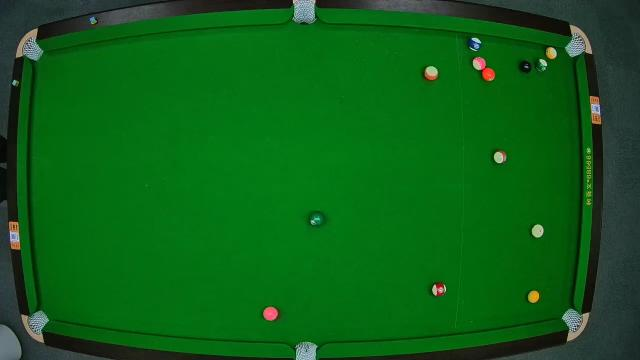bag1: (22, 38, 44, 60)
bag2: (291, 0, 317, 26)
bag3: (566, 29, 588, 57)
bag4: (29, 310, 49, 334)
bag5: (294, 340, 318, 360)
bag6: (563, 308, 585, 332)
ball0: (532, 224, 544, 238)
ball1: (528, 290, 540, 304)
ball10: (467, 37, 483, 53)
ball11: (431, 282, 447, 298)
ball12: (472, 55, 486, 70)
ball13: (424, 66, 441, 82)
ball14: (536, 59, 548, 73)
ball15: (494, 150, 506, 164)
ball4: (264, 307, 278, 321)
ball5: (482, 66, 494, 82)
ball6: (309, 212, 325, 228)
ball8: (516, 60, 532, 74)
ball9: (544, 46, 558, 60)
